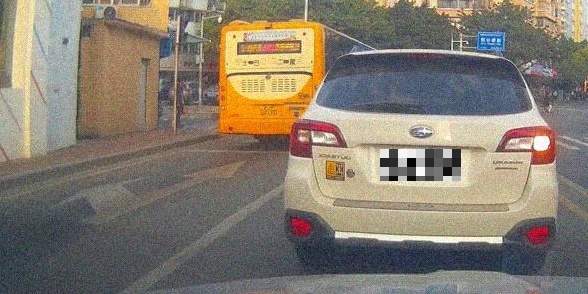L_light: (288, 119, 348, 158)
R_light: (494, 125, 555, 165)
T_light: (407, 53, 443, 58)
day-right: (282, 48, 559, 268)
plate_1: (380, 149, 461, 181)
